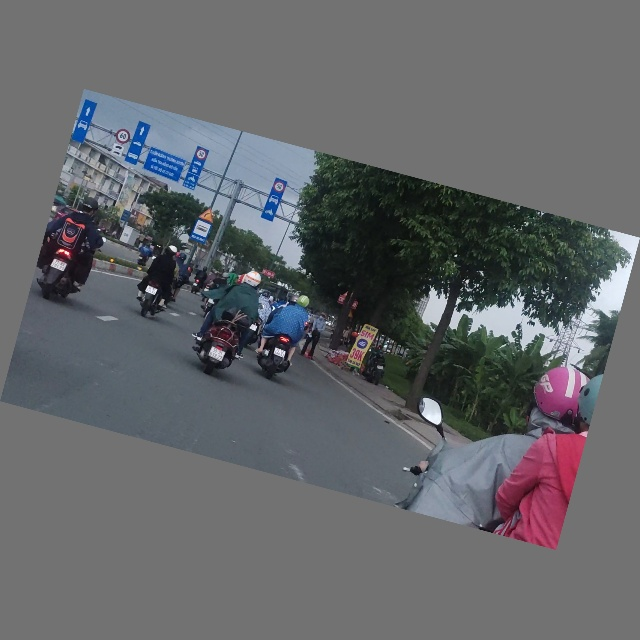I.434a: (189, 219, 212, 245)
P.127*50: (272, 180, 286, 194), (195, 148, 208, 162)
P.127*60: (114, 128, 132, 145)
S.505a*Xe tai va cong: (110, 143, 124, 158)
W.201b: (197, 206, 217, 224)
